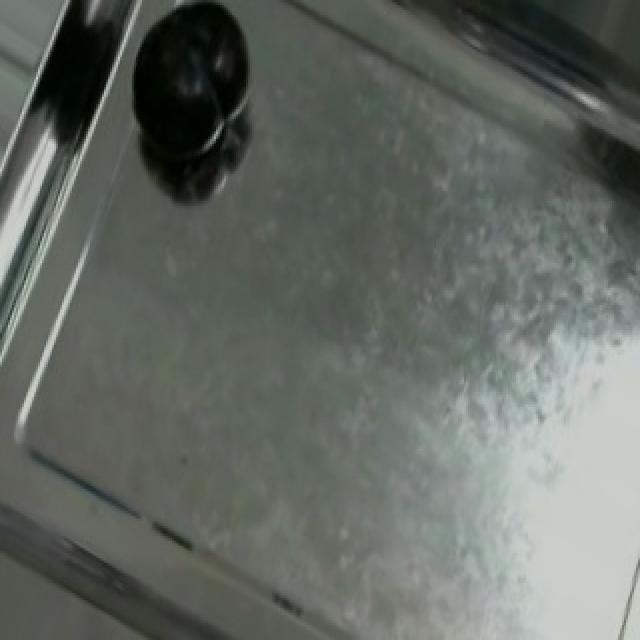Fruit: (108, 0, 270, 189)
